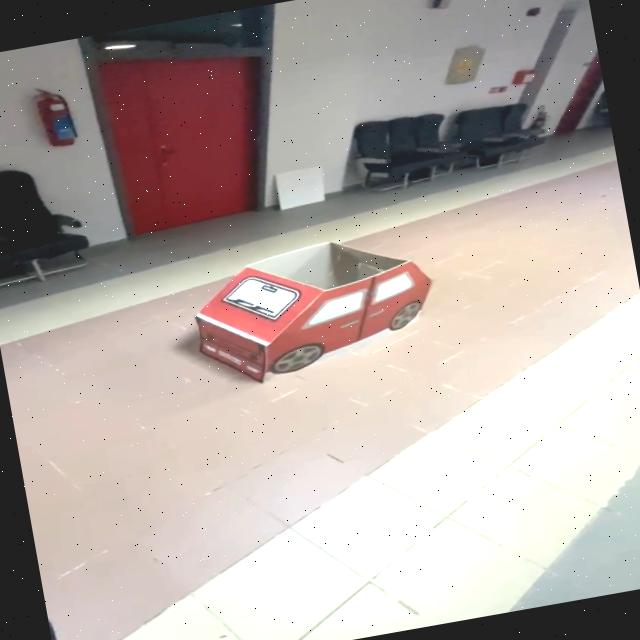red_car: (152, 215, 460, 413)
